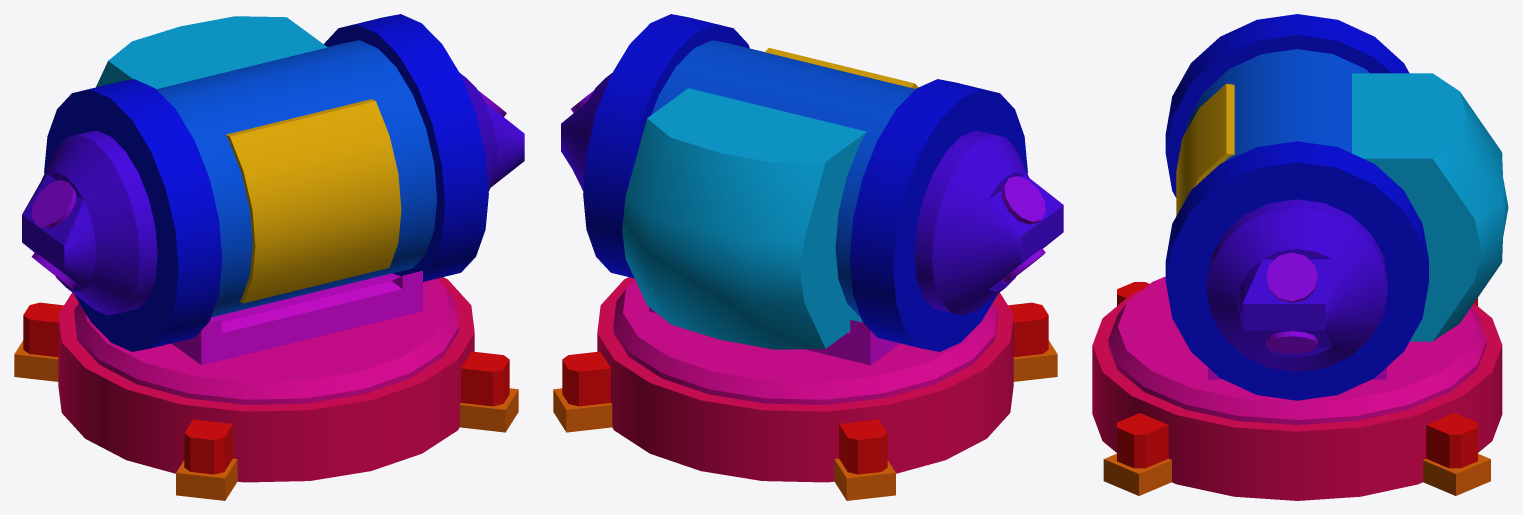
Rendered from turret_size_1.glb.
3 views of the same model, side by side, from view 1: azimuth 30°, elevation 25°; view 2: azimuth 150°, elevation 25°; view 3: azimuth 270°, elevation 25° (orthographic). The views are drawn at different scales.
Visible parts, largest first — view 1: Cylinder.002, Cylinder, Cylinder.001, Cylinder.005, Cylinder.003, Cylinder.004, Cube, Cube.001, Cube.005, Cube.004, Cylinder.006; view 2: Cube.001, Cylinder.002, Cylinder, Cylinder.004, Cylinder.003, Cylinder.001, Cube.005, Cube.004, Cylinder.006, Cube, Cylinder.005; view 3: Cylinder.002, Cylinder, Cube.001, Cylinder.004, Cylinder.003, Cylinder.001, Cube.005, Cylinder.005, Cube.004, Cylinder.006.
Part boxes in pixels (x1,y1,x2,y2): Cylinder.002: (44,14,488,351); Cylinder: (58,277,474,482); Cylinder.001: (156,40,437,317); Cylinder.005: (226,99,401,303); Cylinder.003: (74,278,458,404); Cylinder.004: (22,73,524,315); Cube: (171,270,422,365); Cube.001: (96,16,327,89); Cube.005: (23,302,509,474); Cube.004: (14,340,518,500); Cylinder.006: (31,90,506,288); Cube.001: (622,88,866,349); Cylinder.002: (583,14,1027,351); Cylinder: (597,277,1013,482); Cylinder.004: (561,73,1063,315); Cylinder.003: (613,279,997,404); Cylinder.001: (651,40,915,317); Cube.005: (562,302,1048,474); Cube.004: (553,340,1057,500); Cylinder.006: (571,91,1045,284); Cube: (649,307,900,365); Cylinder.005: (765,48,918,88); Cylinder.002: (1165,14,1428,400); Cylinder: (1092,289,1502,500); Cube.001: (1352,73,1508,341); Cylinder.004: (1206,199,1387,371); Cylinder.003: (1108,276,1486,424); Cylinder.001: (1185,49,1369,161); Cube.005: (1117,282,1477,468); Cylinder.005: (1176,83,1234,215); Cube.004: (1103,453,1490,495); Cylinder.006: (1266,252,1317,353).
Size of the model in its own units: 3.86 by 2.63 by 3.04.
